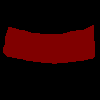mutande: (3, 24, 95, 64)
